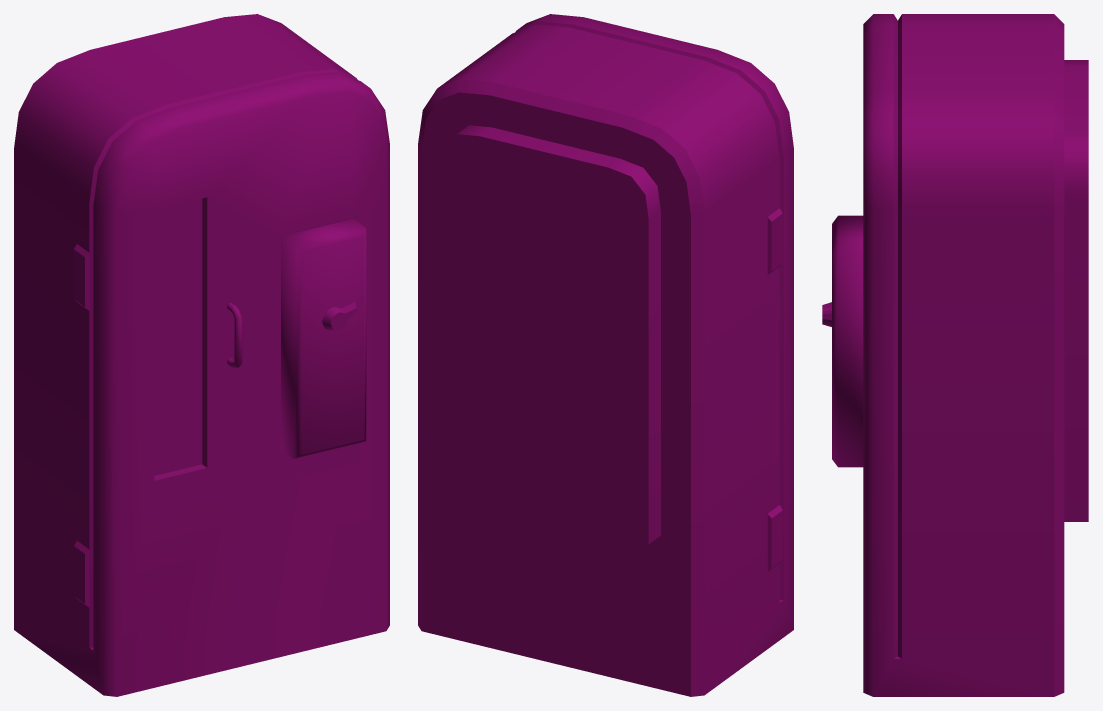
File: coceMachine.FBX
3 views of the same model, side by side, from view 1: azimuth 30°, elevation 25°; view 2: azimuth 150°, elevation 25°; view 3: azimuth 270°, elevation 25° (orthographic).
Visible parts, largest first — view 1: coceMachineHigh; view 2: coceMachineHigh; view 3: coceMachineHigh.
Part boxes in pixels (left/top/right/bottom): coceMachineHigh: left=14, top=14, right=389, bottom=696; coceMachineHigh: left=418, top=14, right=793, bottom=696; coceMachineHigh: left=822, top=14, right=1088, bottom=696.
Bounding box in the file's own units: 34.01 × 62.91 × 26.74.
